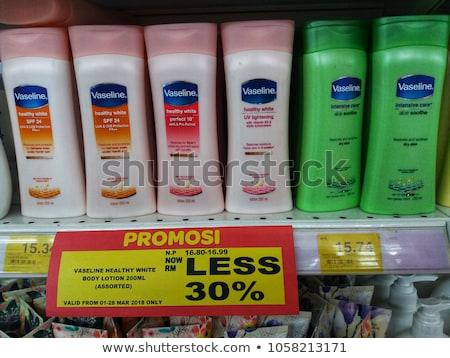Vaseline_bottle: (368, 14, 447, 213), (145, 25, 224, 215), (72, 22, 146, 217), (221, 23, 294, 214), (2, 27, 75, 214), (303, 21, 364, 210)
